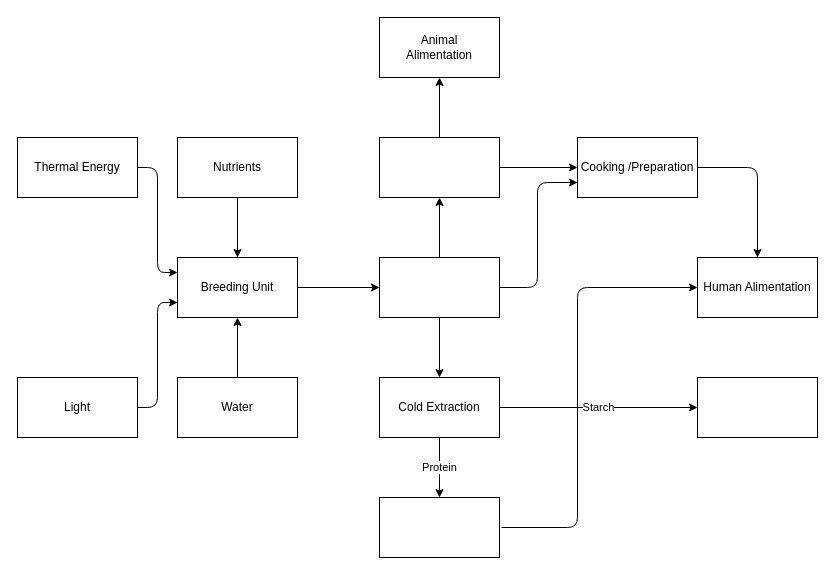
This 835x575 diagram has some shape labels left out. Each missing label, with the box of its shape:
Bio Fuel Production: (696, 376, 818, 438)
Drying: (378, 136, 500, 198)
Protein Powder: (378, 496, 500, 558)
Raw Duckweed: (378, 256, 500, 318)
